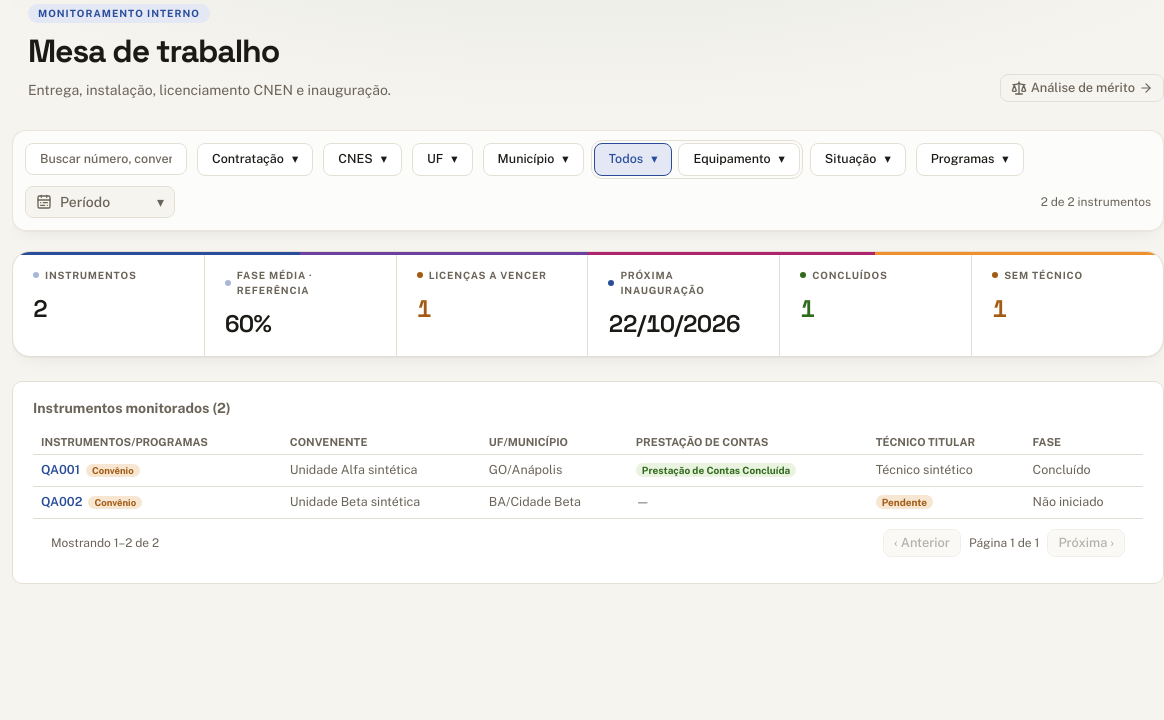
Test: Mesa de trabalho com fontes HTTP e componentes reais › atualiza os seis indicadores com o mesmo recorte da lista
Expected: the text "60%" is shown, [225,308,271,338]
Expected: the text "1" below "Licenças a vencer" is shown, [417,292,431,324]
Click the button "UF ▾".
click(442, 159)  # box [412,143,473,176]
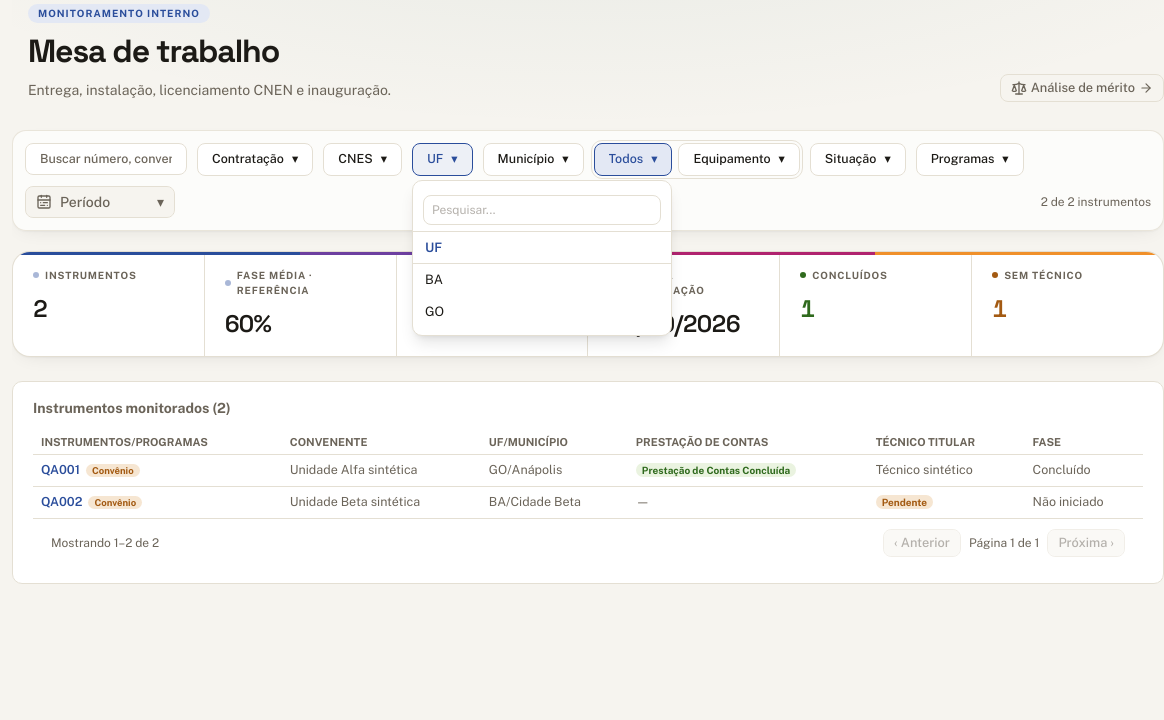
Click the option "BA".
click(542, 280)  # box [413,264,671,296]
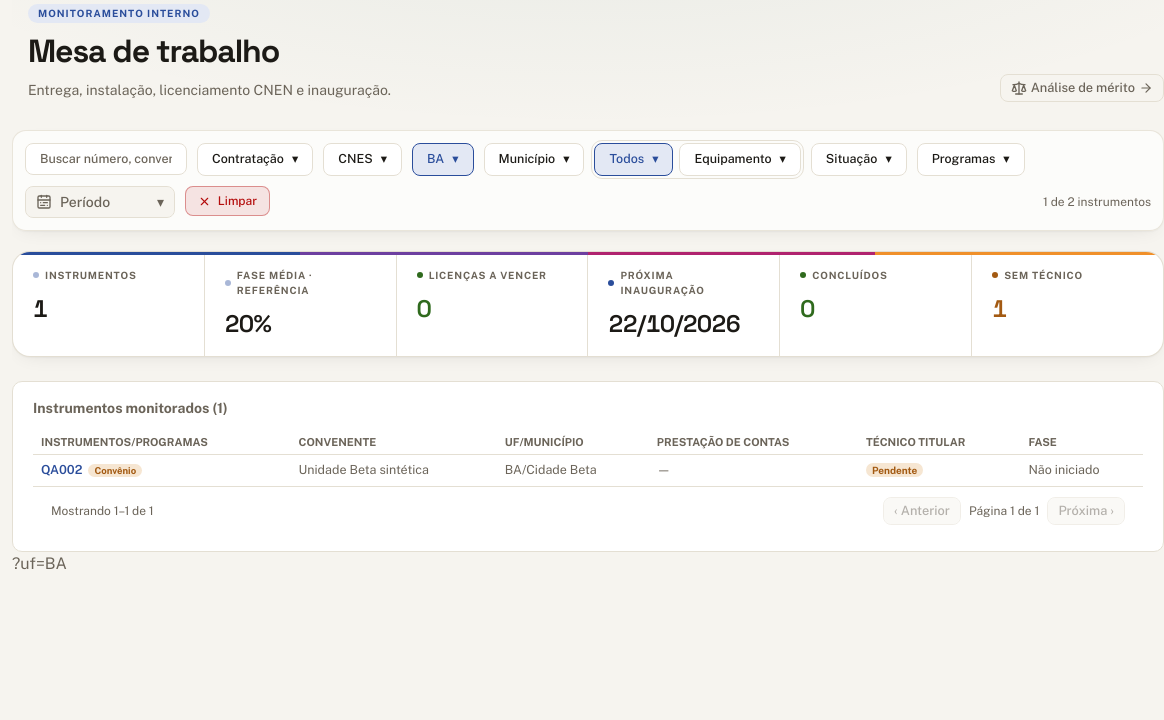
Now the text "20%" is shown, box [225,308,271,338]
Now the text "0" below "Concluídos" is shown, box [800,292,815,324]
Now the link "QA001" is gone
